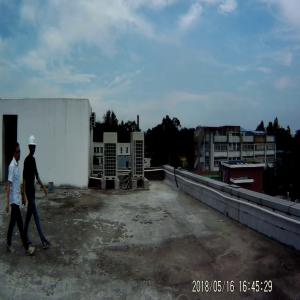none: (12, 141, 23, 164)
white: (28, 135, 38, 158)
